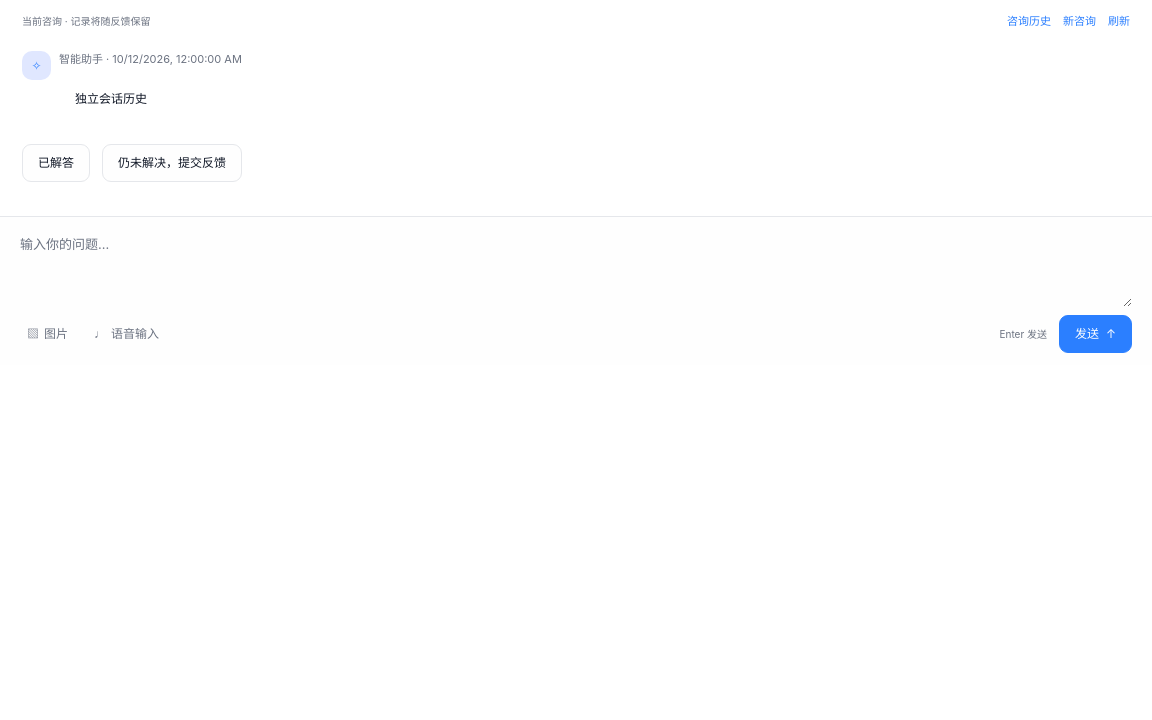
Test: AgentChatPanel standalone 独立会话 › 历史加载与发送均走独立会话 API，不触碰绑定反馈的 API
Expected: the text "独立会话历史" is shown, [75,90,147,106]
Note:  发送走独立会话
Type "独立会话提问" into the text box with placeholder "输入你的问题..." at coordinates (576, 268), box [20,229,1132,307]
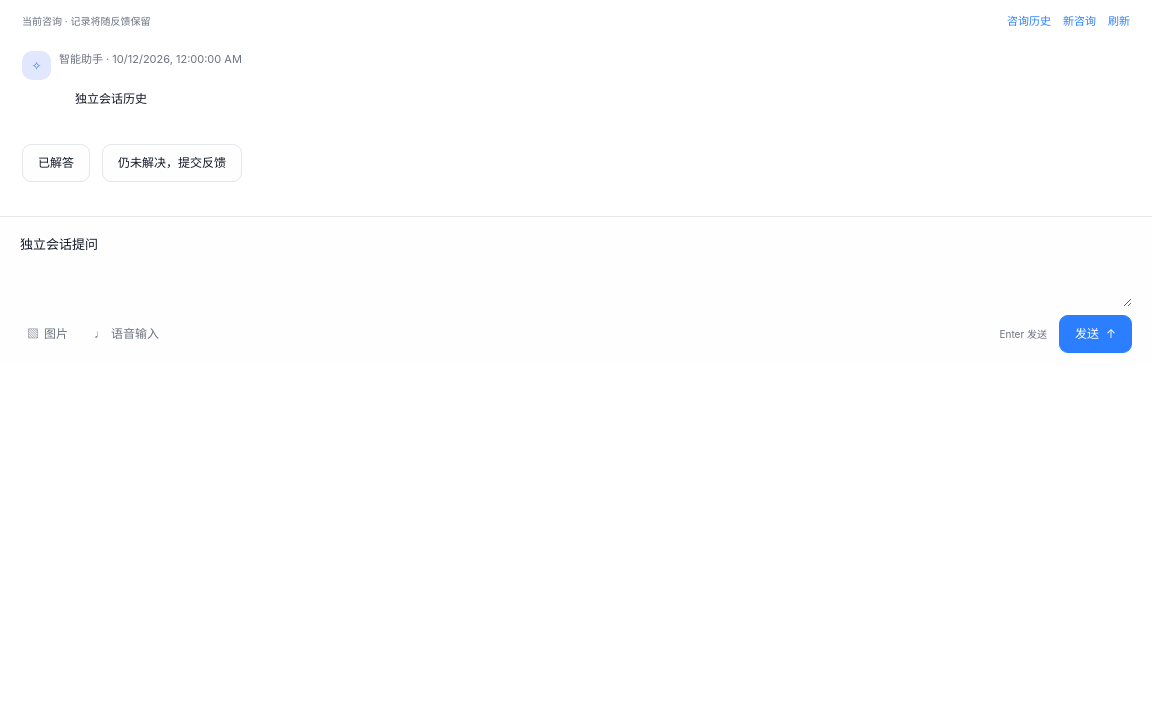
Press Enter in the text box with placeholder "输入你的问题...", box [20,229,1132,307]
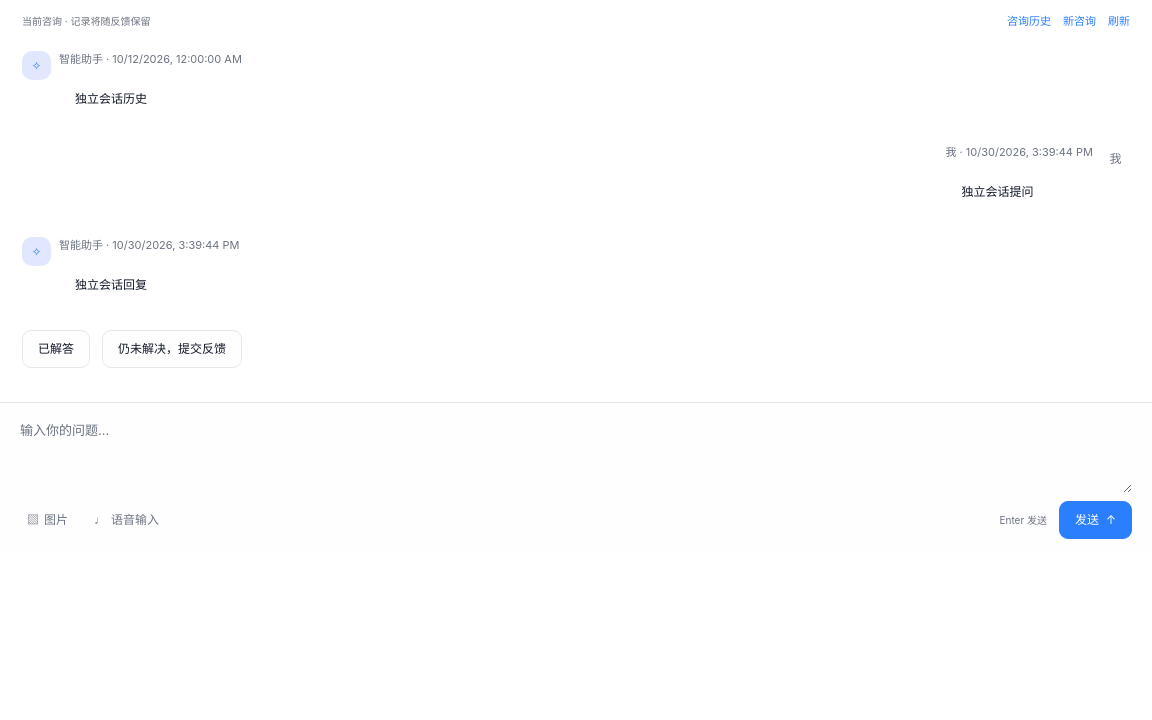
Expected: the text "独立会话回复" is shown, [75,277,147,292]
